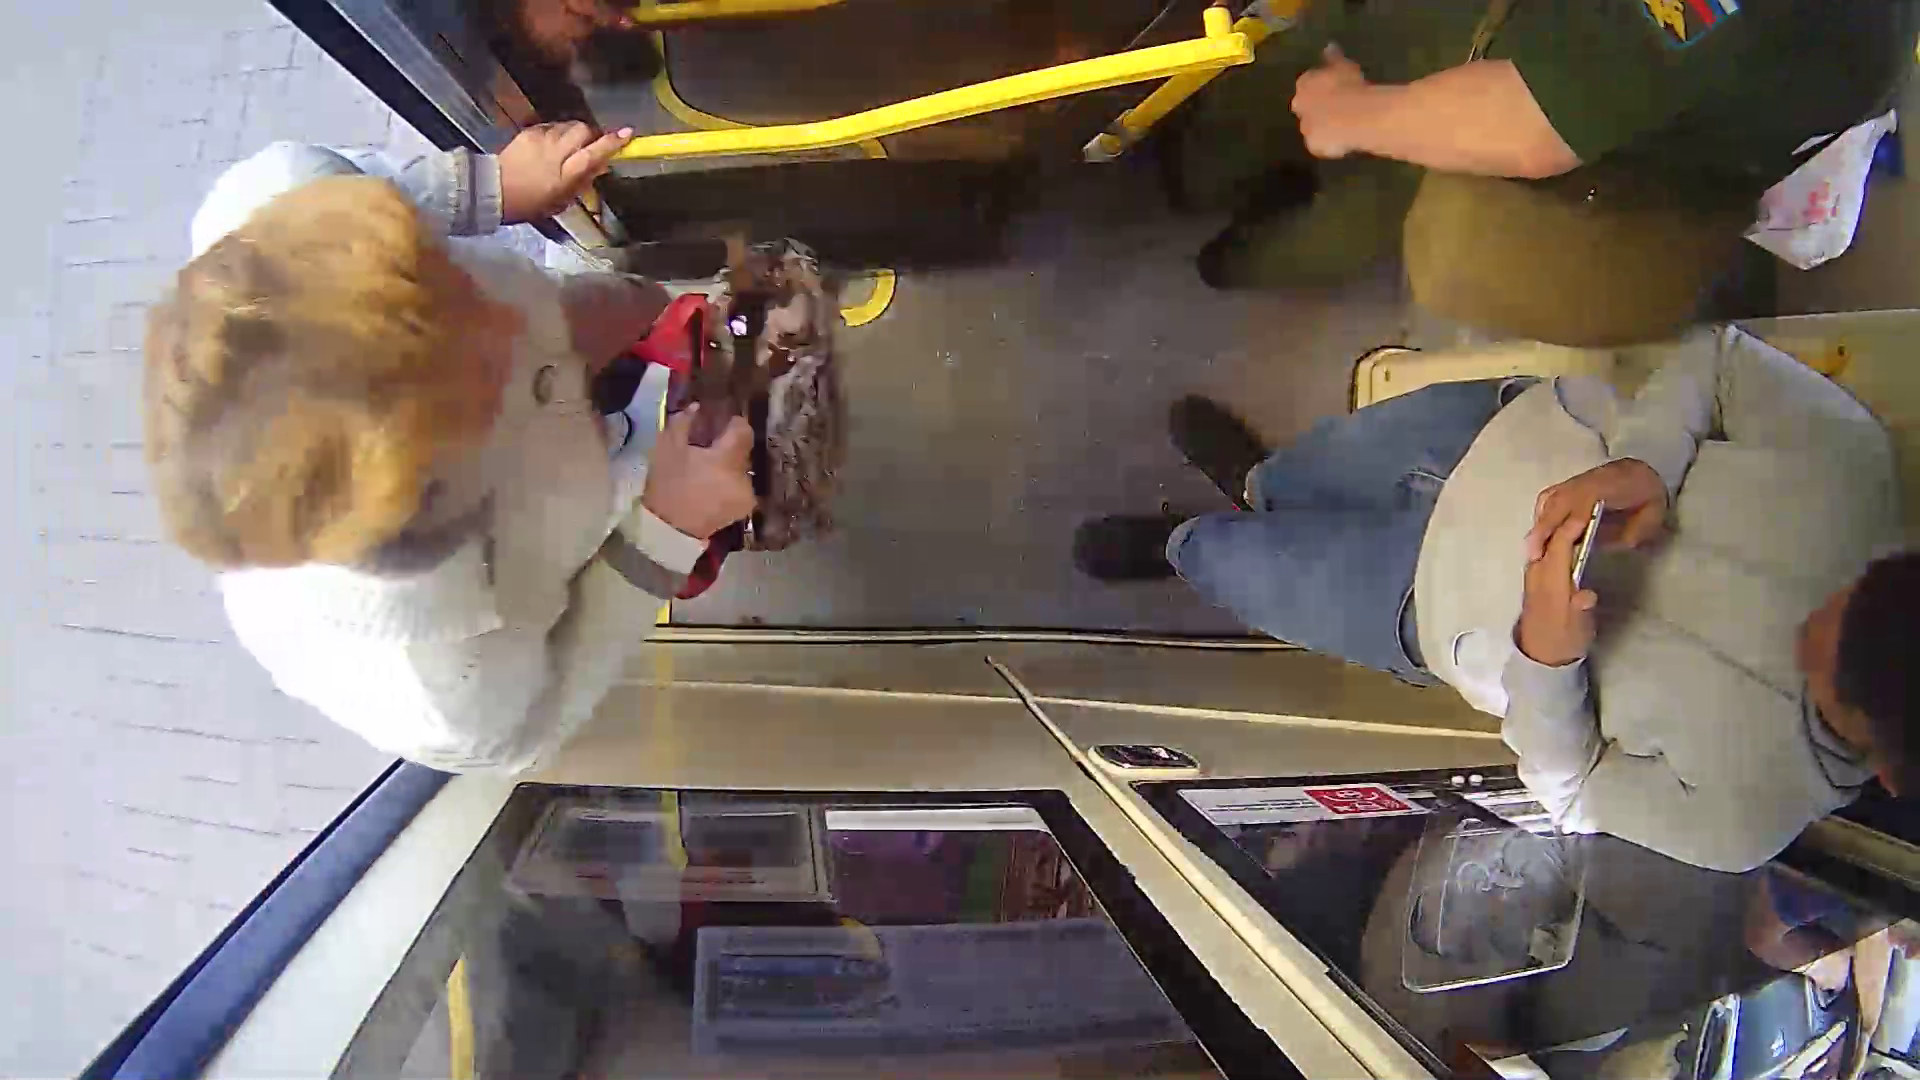person: (71, 141, 1004, 767), (1106, 304, 1859, 895)
